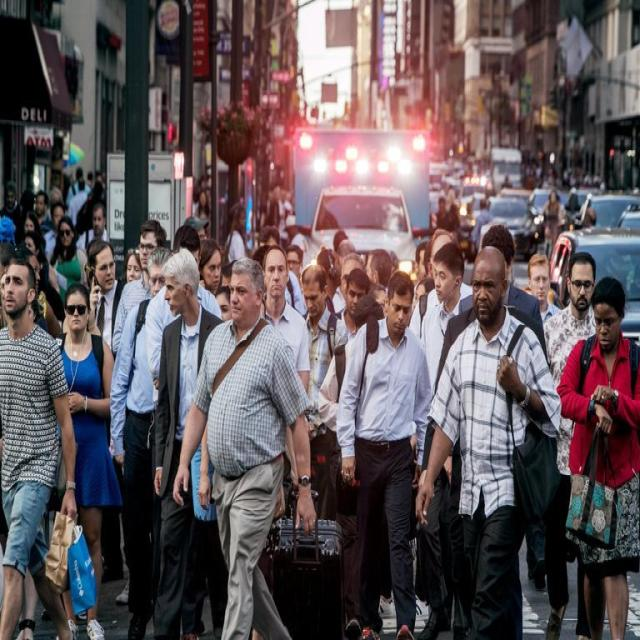body: (412, 244, 561, 638), (171, 255, 316, 639), (333, 269, 435, 639), (148, 246, 230, 640), (554, 274, 639, 638), (0, 256, 80, 640), (108, 244, 175, 640), (539, 249, 603, 640), (54, 281, 123, 639), (316, 294, 386, 640), (110, 216, 169, 605), (85, 238, 133, 588), (258, 243, 312, 518), (0, 156, 142, 258), (251, 426, 316, 640), (299, 262, 349, 522), (502, 138, 612, 252), (316, 224, 412, 350), (230, 180, 310, 320), (172, 164, 231, 321), (458, 220, 544, 322), (434, 148, 498, 282), (420, 242, 468, 396), (45, 214, 91, 308), (524, 250, 567, 330), (411, 224, 434, 326), (28, 260, 52, 325), (118, 258, 144, 288), (0, 260, 7, 331)
